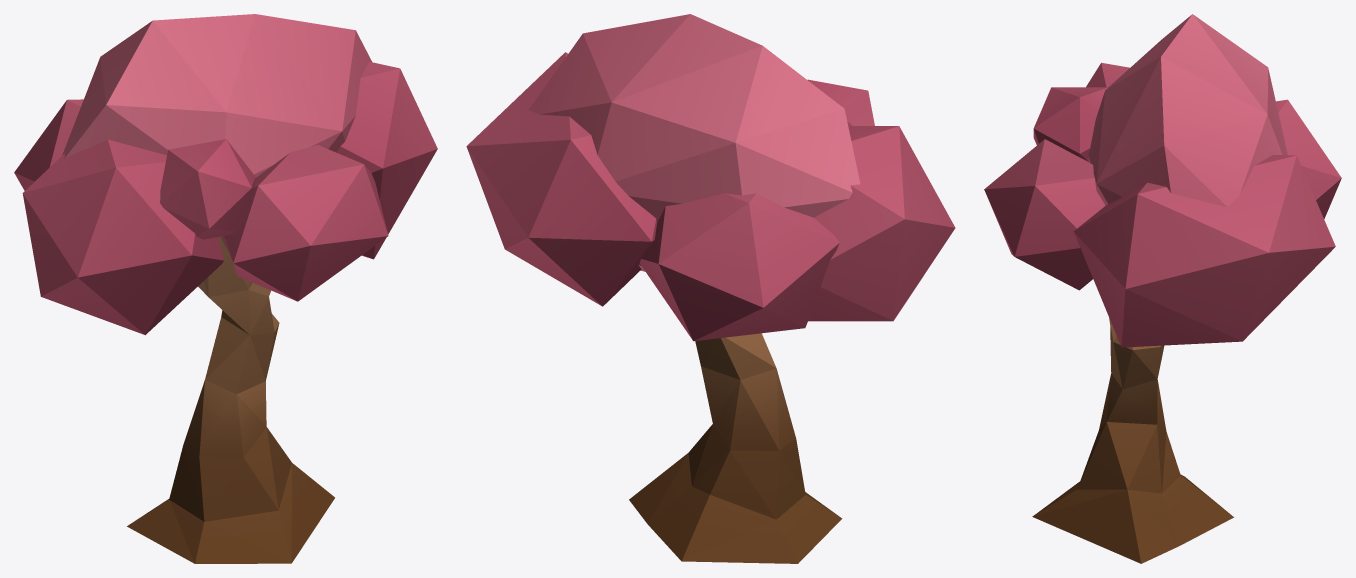
File: Tree_PinkSakura.fbx
The picture shows the model from 3 angles, left to right: view 1: azimuth 30°, elevation 25°; view 2: azimuth 150°, elevation 25°; view 3: azimuth 270°, elevation 25°; orthographic projection. The views are drawn at different scales.
Parts seen in each view (by area): view 1: Tree_PinkSakura; view 2: Tree_PinkSakura; view 3: Tree_PinkSakura.
Part boxes in pixels (x1=…): Tree_PinkSakura: x1=14, y1=14, x2=437, y2=563; Tree_PinkSakura: x1=466, y1=14, x2=955, y2=563; Tree_PinkSakura: x1=984, y1=14, x2=1341, y2=563.
Bounding box in the file's own units: 4.46 × 5.5 × 3.74.
1 material, 1 textured.
